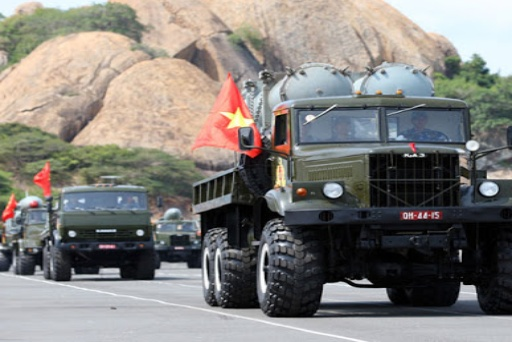plate: (400, 208, 441, 223), (100, 244, 116, 249)
